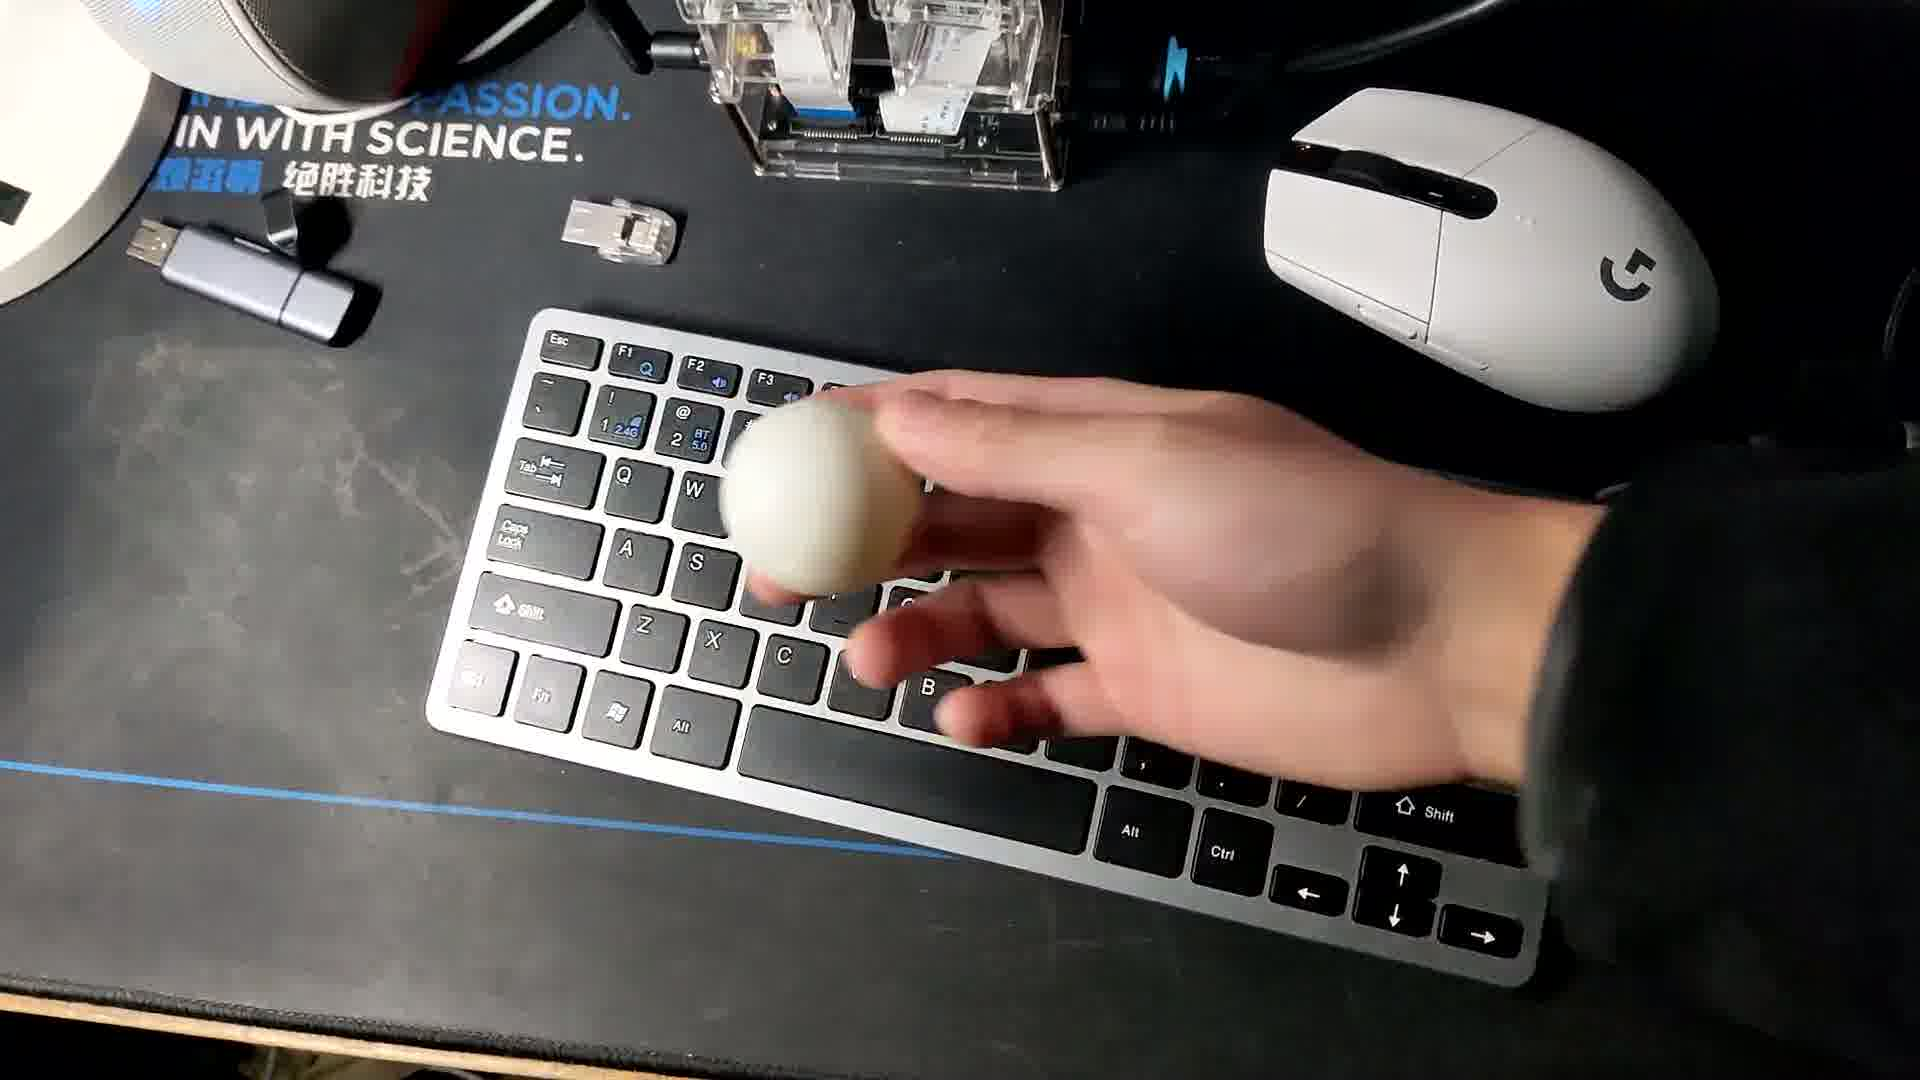Ball: (723, 402, 916, 597)
